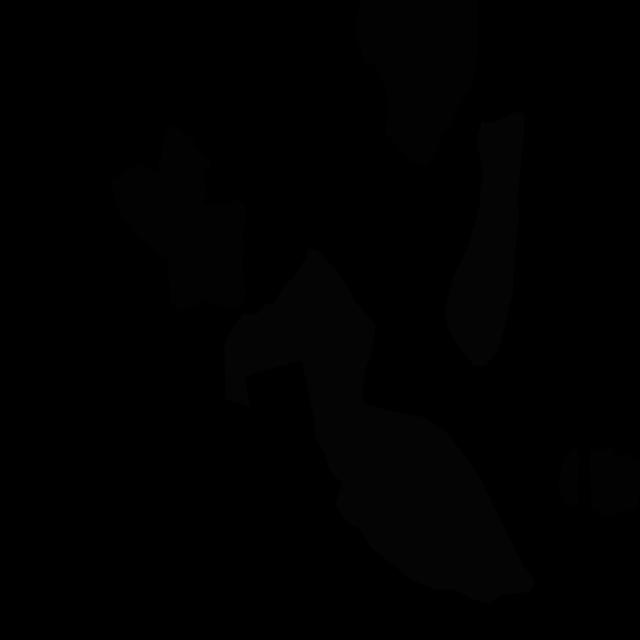cardboard: (356, 0, 478, 169), (111, 125, 212, 257), (168, 199, 246, 312), (589, 446, 640, 516), (558, 442, 580, 508)
soft_plastic: (224, 248, 535, 604), (445, 112, 524, 367)
